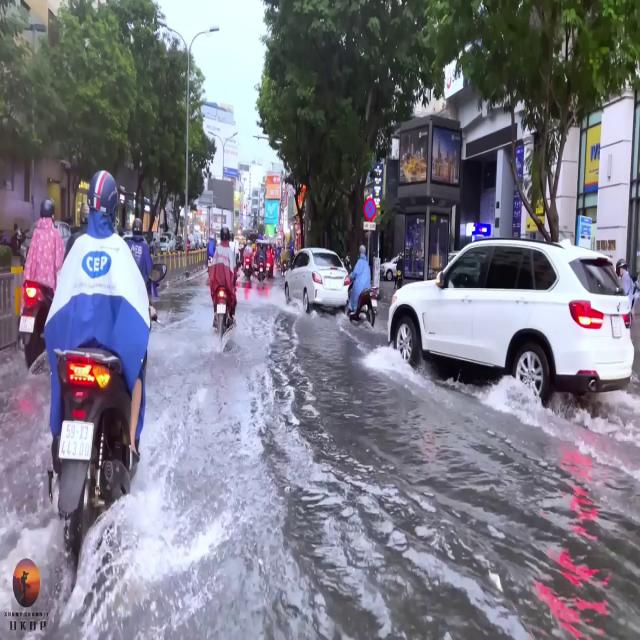bien_trang: (60, 413, 94, 460)
